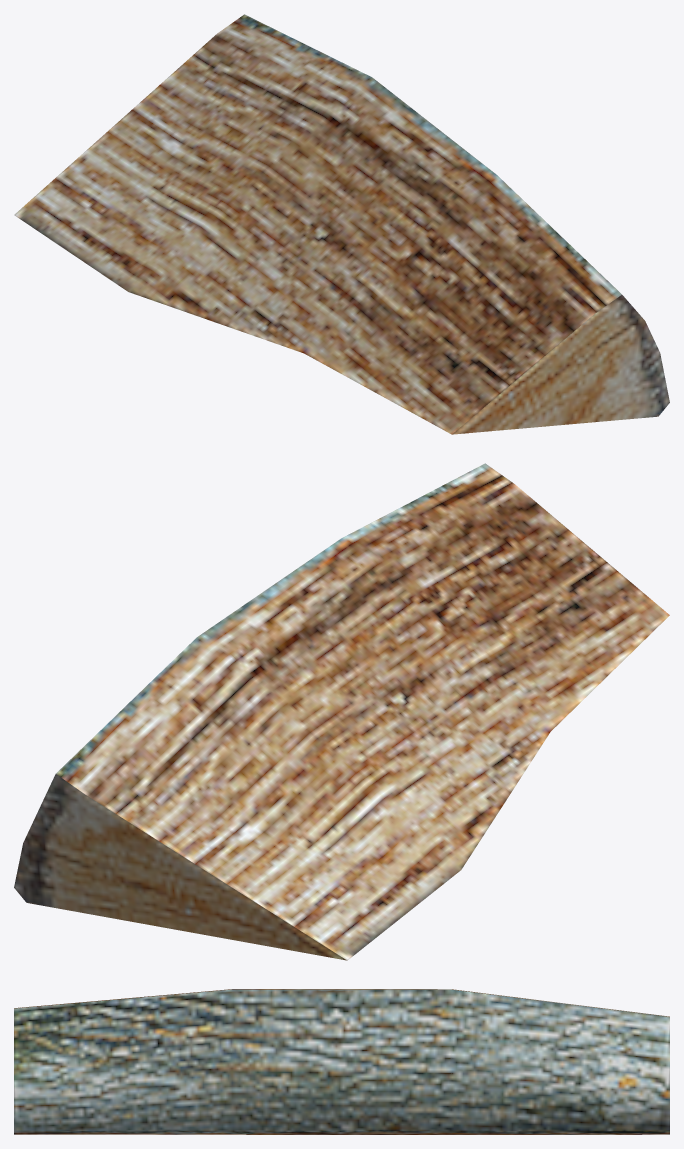
File: FirewoodPoleno_5_3.FBX
3 views of the same model, one above another, from view 1: azimuth 30°, elevation 25°; view 2: azimuth 150°, elevation 25°; view 3: azimuth 270°, elevation 25° (orthographic). The views are drawn at different scales.
Visible parts, largest first — view 1: FirewoodPoleno_5_3; view 2: FirewoodPoleno_5_3; view 3: FirewoodPoleno_5_3.
Part boxes in pixels (bbox=[...]): FirewoodPoleno_5_3: bbox=[14, 14, 669, 434]; FirewoodPoleno_5_3: bbox=[14, 463, 669, 960]; FirewoodPoleno_5_3: bbox=[14, 989, 669, 1134].
Bounding box in the file's own units: 21.9 × 11.24 × 50.09.
